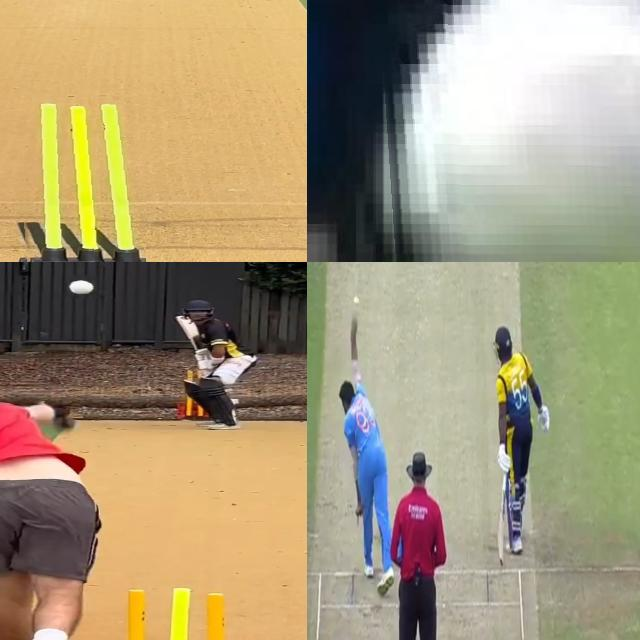Cricket ball: (375, 0, 640, 262), (64, 275, 98, 298), (352, 294, 361, 310)
Stumps: (16, 101, 145, 262), (100, 588, 244, 640)
